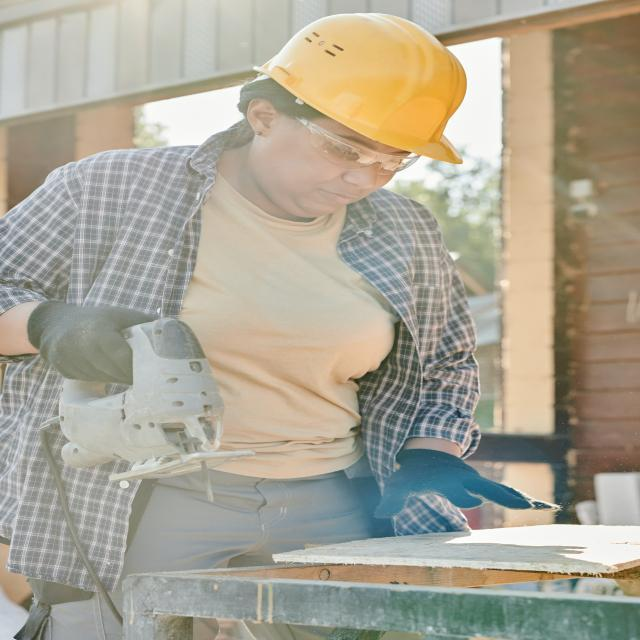helmet: (250, 13, 489, 178)
